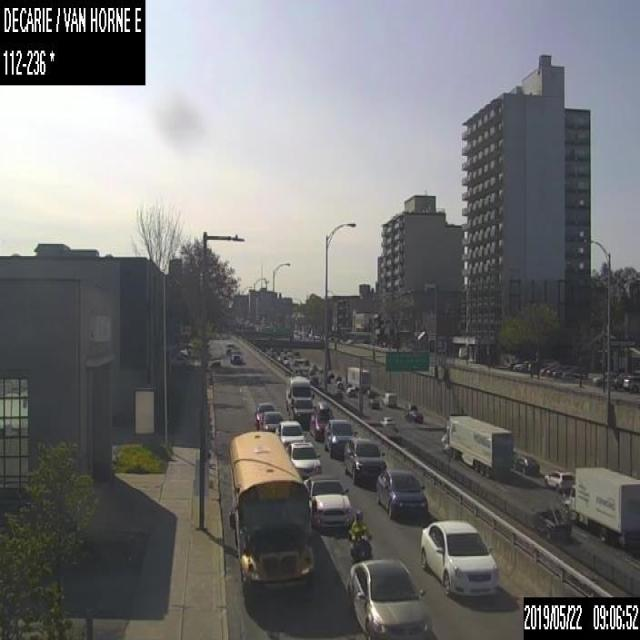bus: (228, 429, 318, 604)
vehicle: (348, 556, 428, 638), (420, 518, 498, 599), (564, 466, 639, 549), (442, 412, 512, 477), (376, 468, 427, 520), (302, 474, 350, 528), (343, 436, 385, 483), (526, 502, 570, 542), (285, 375, 315, 425), (324, 418, 358, 460), (286, 442, 320, 476), (348, 509, 371, 559), (309, 400, 334, 442), (274, 418, 305, 446), (254, 400, 275, 430), (544, 469, 573, 490), (258, 410, 284, 433), (344, 365, 370, 388), (511, 456, 539, 475), (223, 341, 241, 363), (622, 375, 639, 391), (404, 409, 422, 424), (382, 391, 396, 406), (380, 415, 394, 425), (344, 386, 356, 396), (367, 398, 378, 408), (334, 379, 343, 388), (406, 403, 416, 411), (333, 388, 342, 396), (334, 372, 341, 380)
